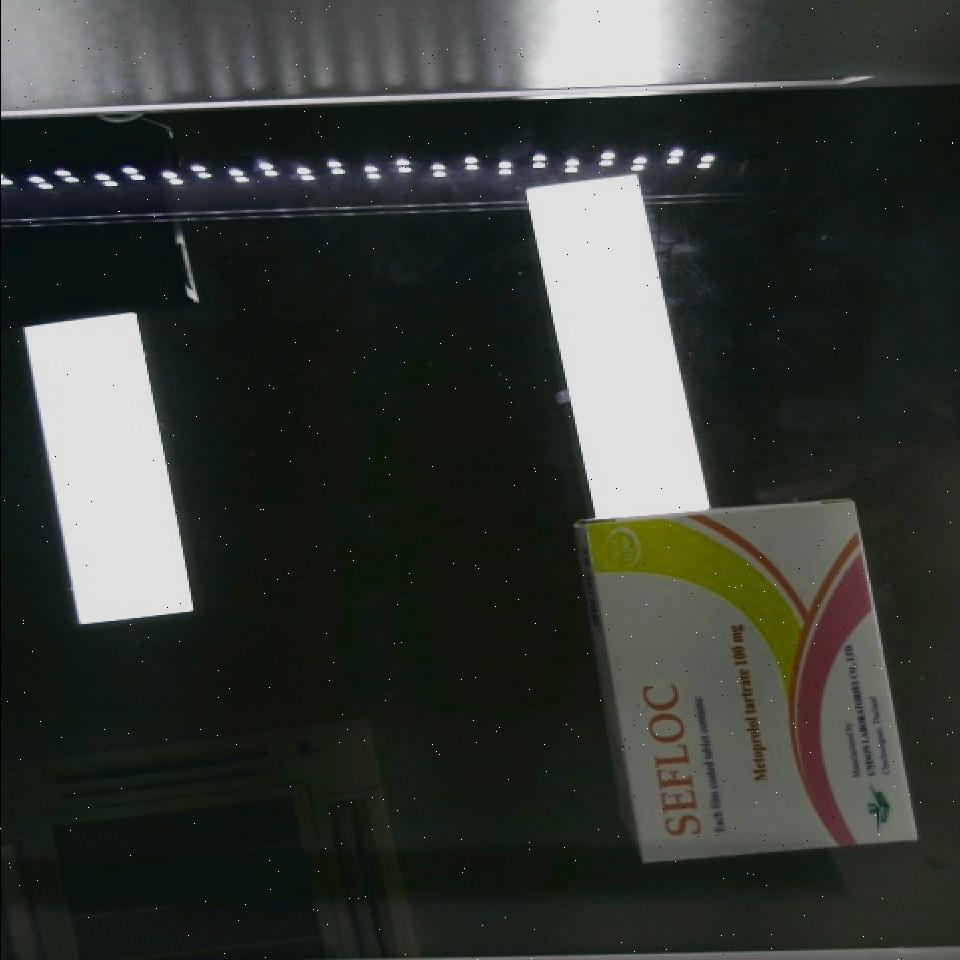medicine_box: (577, 473, 914, 890)
medicine_label_obb: (620, 661, 721, 859)
